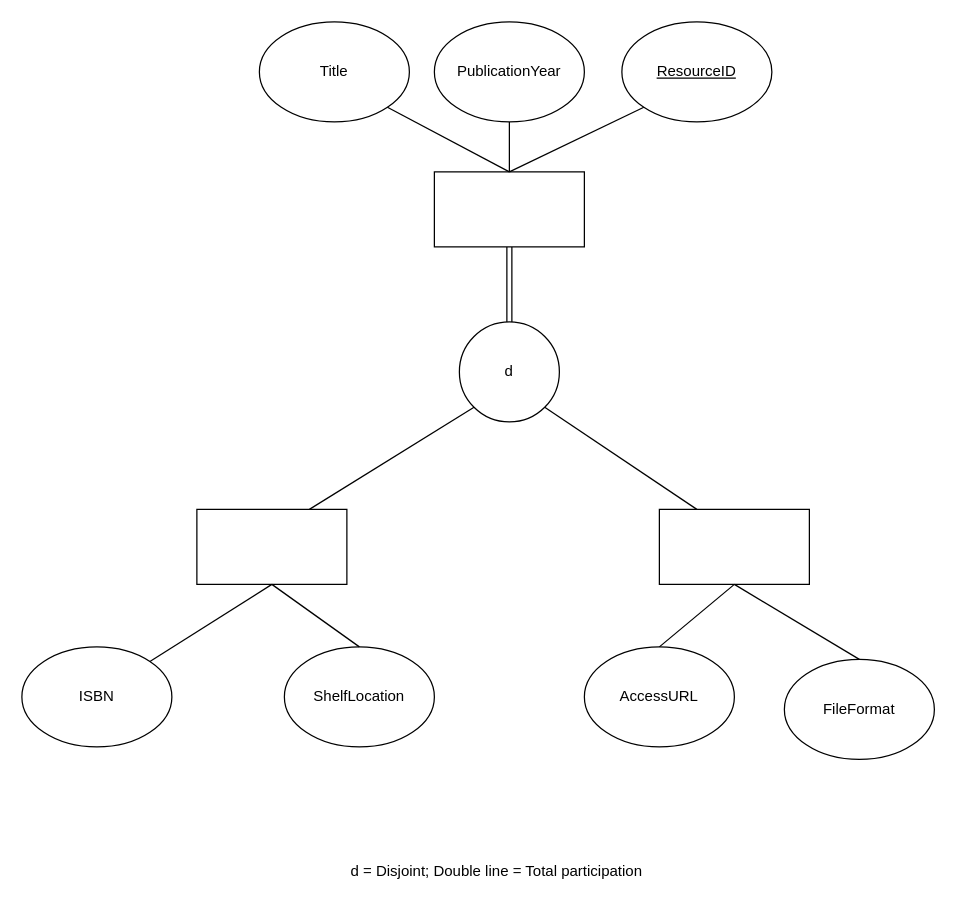
Some shapes in this 956 by 919 pixel diagram are drawn without their labels. The centre of each missing label's shape, as x and y in pixels:
"Ebook" belongs at (733,546).
"PrintedBook" belongs at (271,546).
"Resource" belongs at (508,209).
